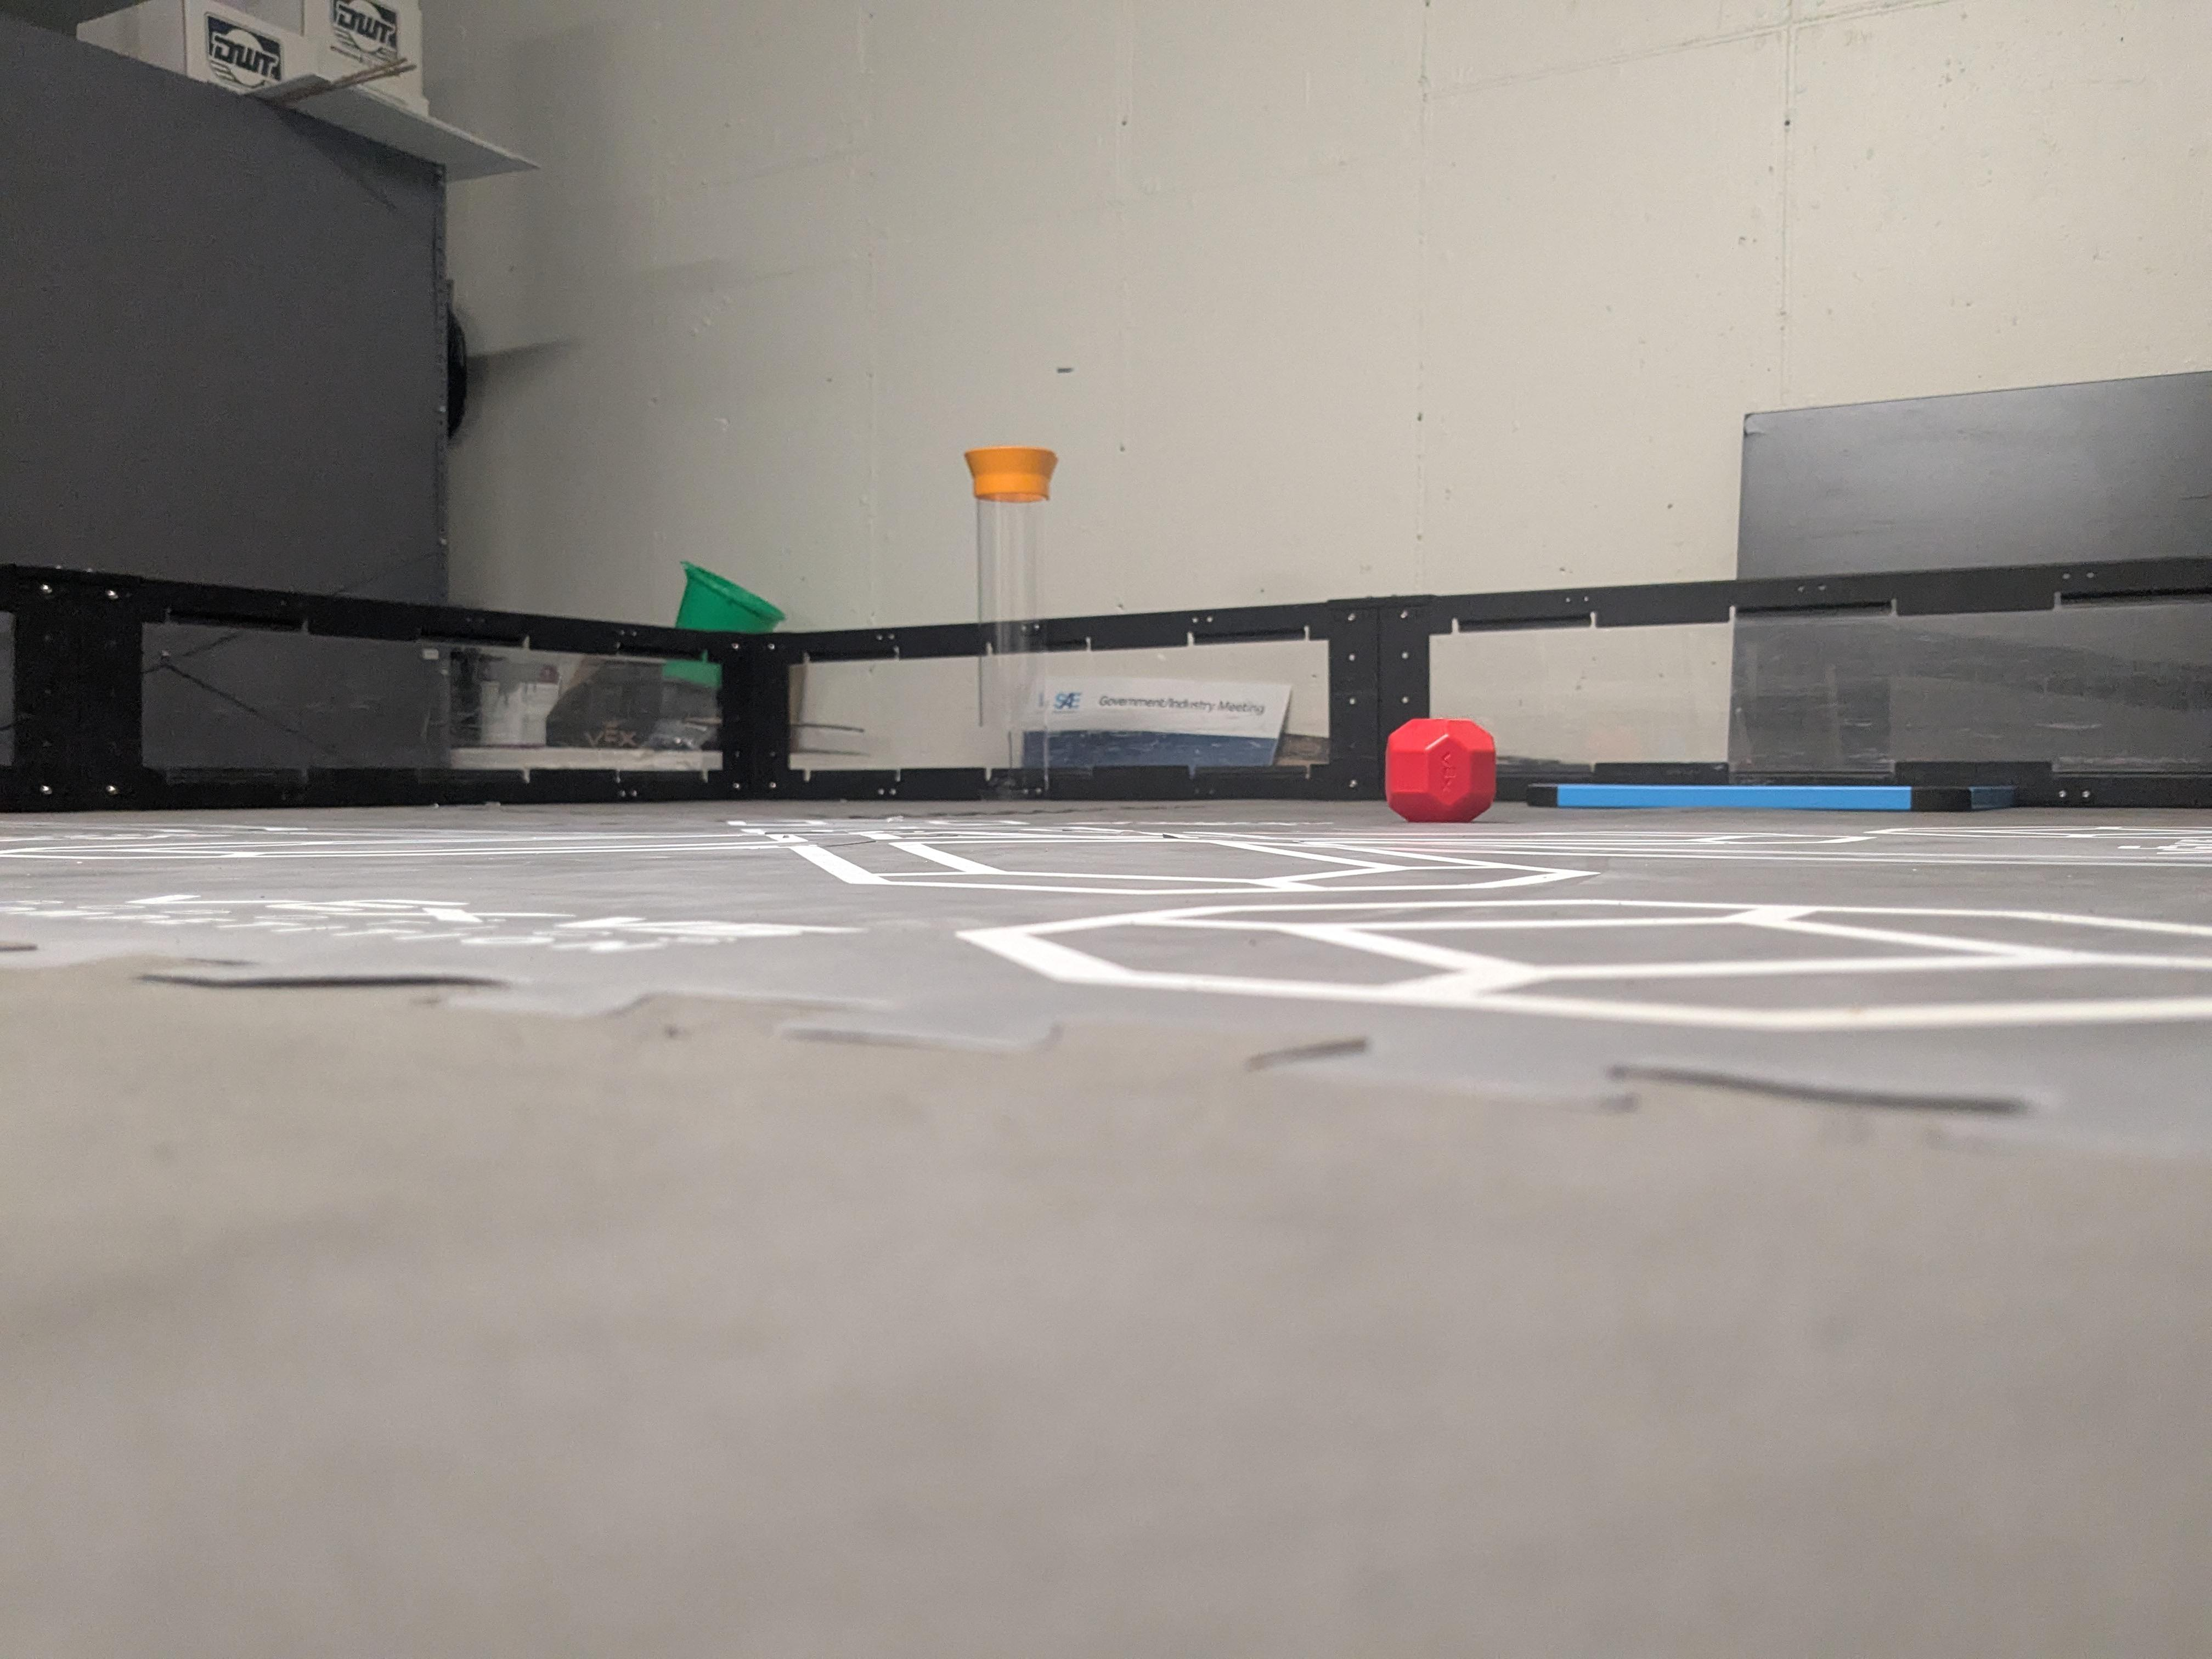Vex-Pieces-RED: (1385, 718, 1496, 821)
